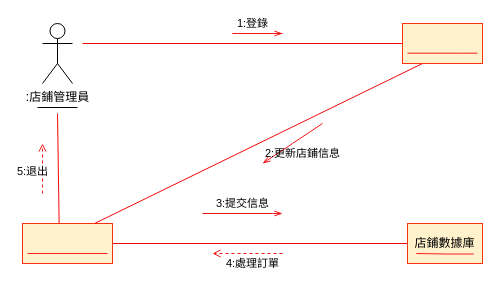
This 500x287 diagram has some shape labels left out. Here are the shapes that lost their labels. From the top down, the centre of each, then its label:
At (442,43): "登錄介面".
At (67,243): "店鋪信息數據庫".
